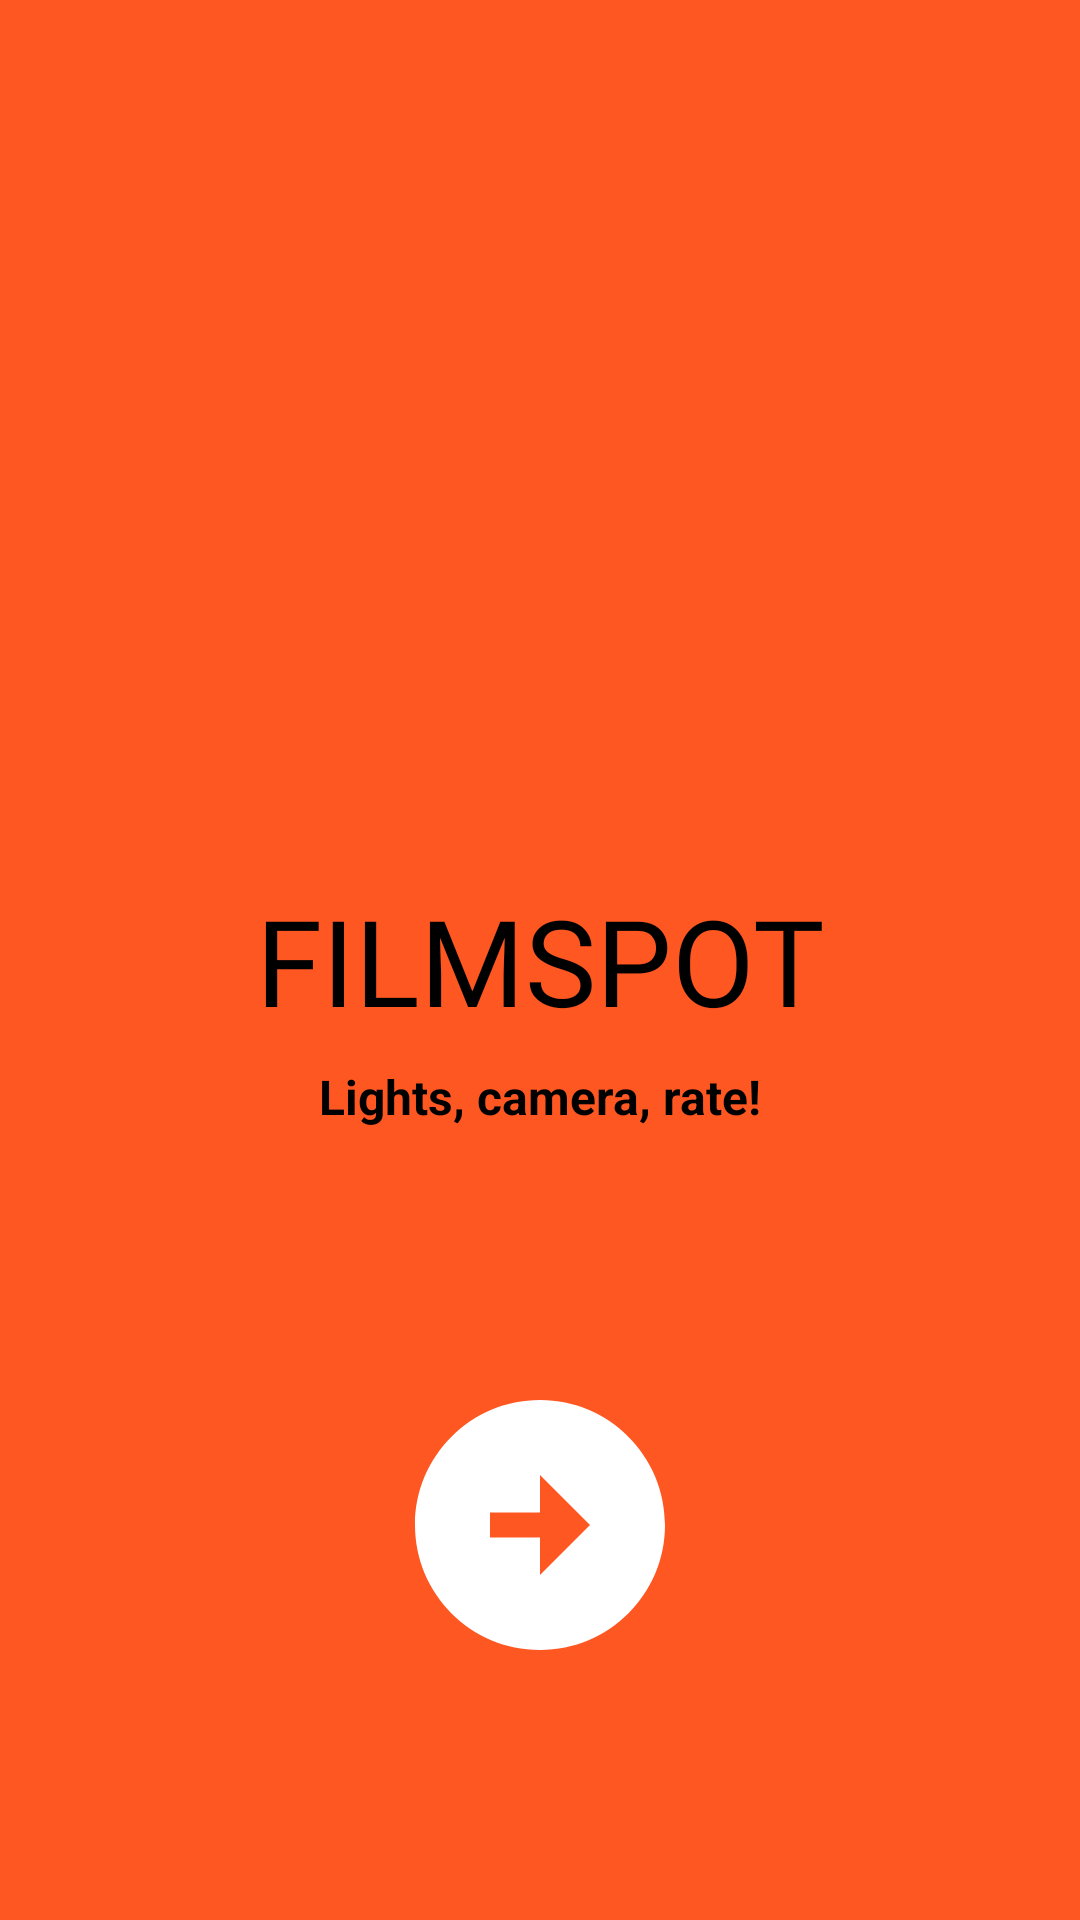

Icons on this 1080x1920 Android screen, each with its box as (x1, y1, x2, y2):
Continue buttom: (415, 1400, 665, 1650)
